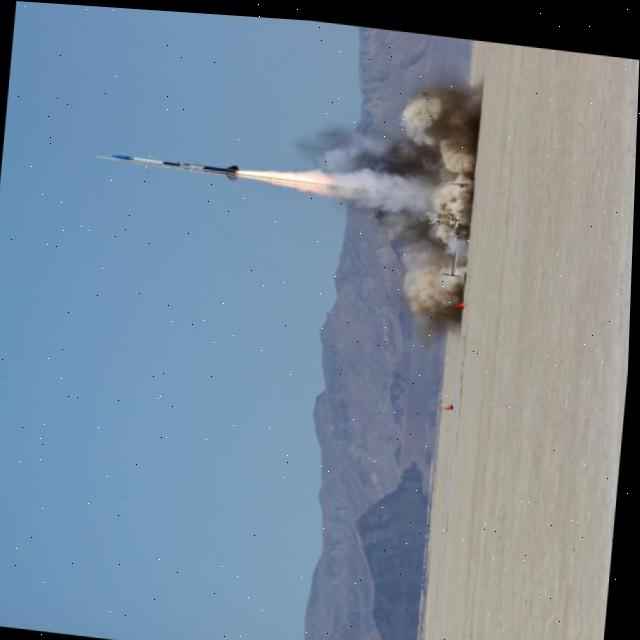missile: (93, 144, 247, 180)
